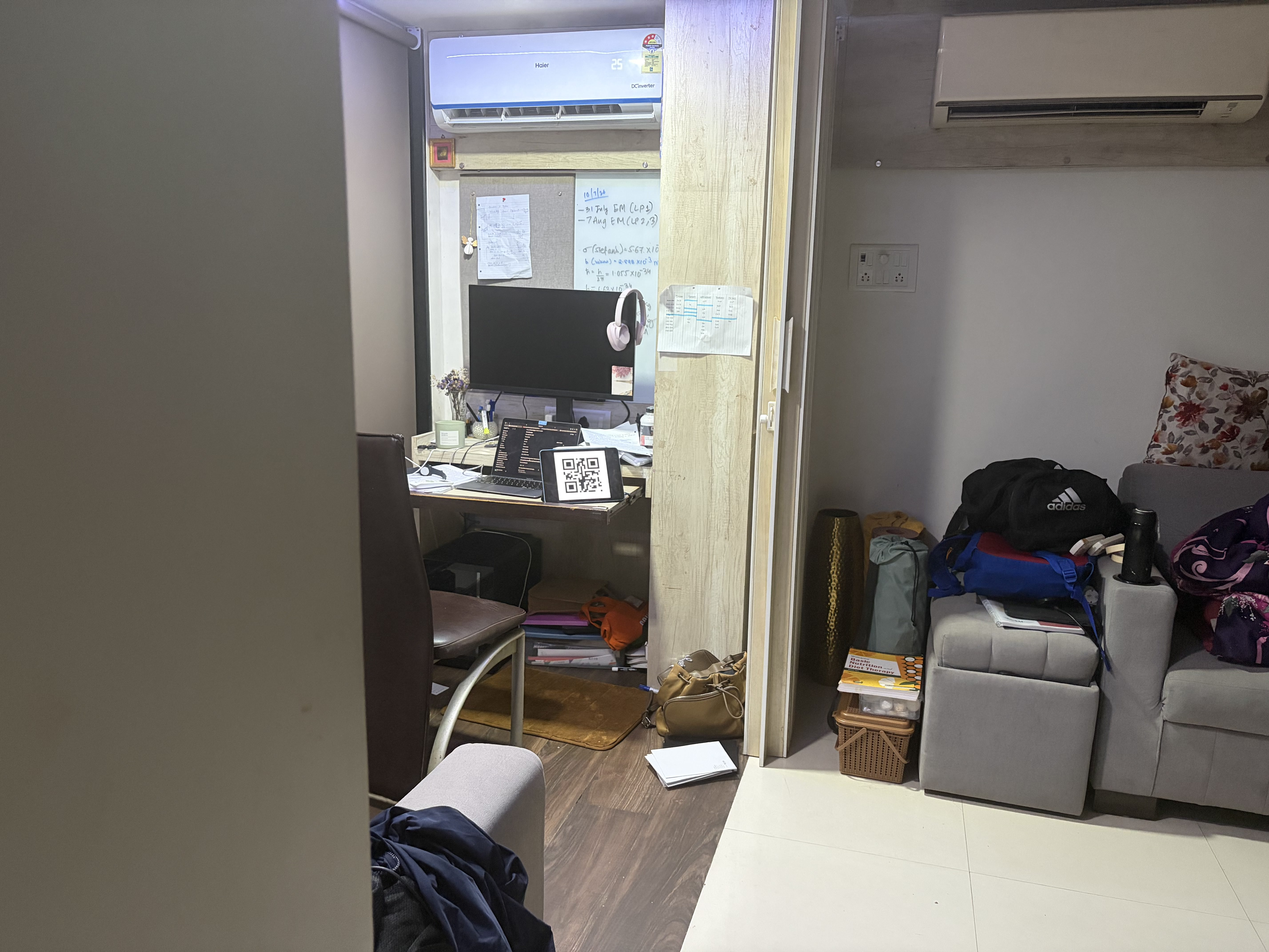QR: (551, 452, 609, 497)
